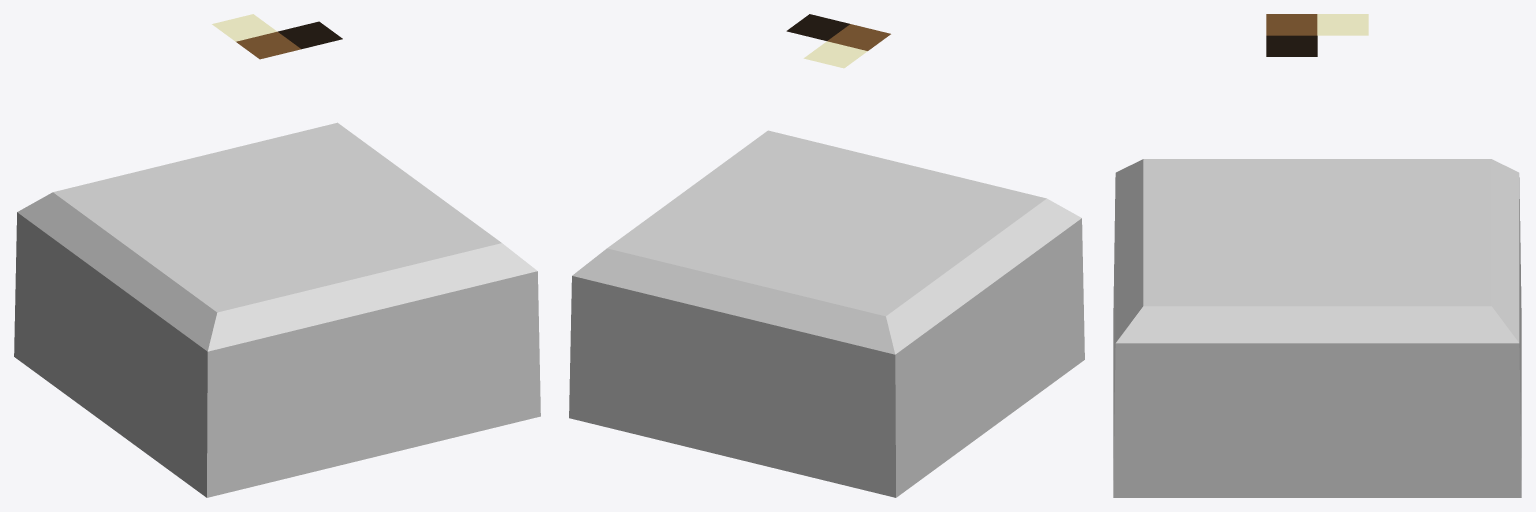
File: field.glb
The picture shows the model from 3 angles, left to right: view 1: azimuth 30°, elevation 25°; view 2: azimuth 150°, elevation 25°; view 3: azimuth 270°, elevation 25°; orthographic projection. The views are drawn at different scales.
Parts seen in each view (by area): view 1: Cube, Materials; view 2: Cube, Materials; view 3: Cube, Materials.
Boxes of the visible parts, left/top/right/bottom form: Cube: left=14, top=122, right=540, bottom=497; Materials: left=212, top=14, right=342, bottom=59; Cube: left=569, top=130, right=1084, bottom=497; Materials: left=786, top=14, right=890, bottom=68; Cube: left=1113, top=159, right=1521, bottom=497; Materials: left=1266, top=14, right=1368, bottom=56.
Bounding box in the file's own units: 8 × 8.13 × 8.
